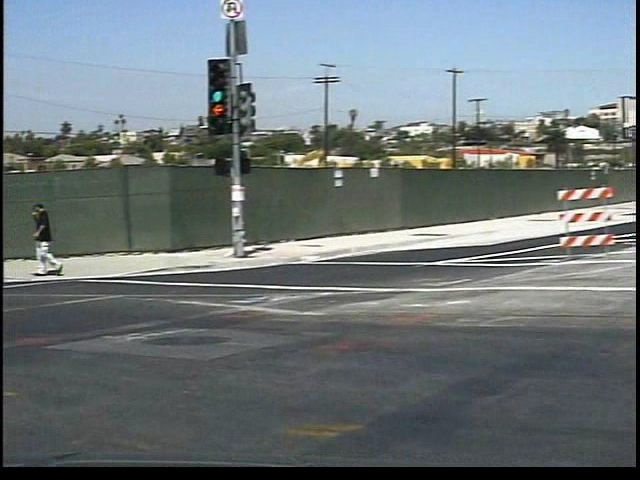person: (20, 195, 58, 285)
